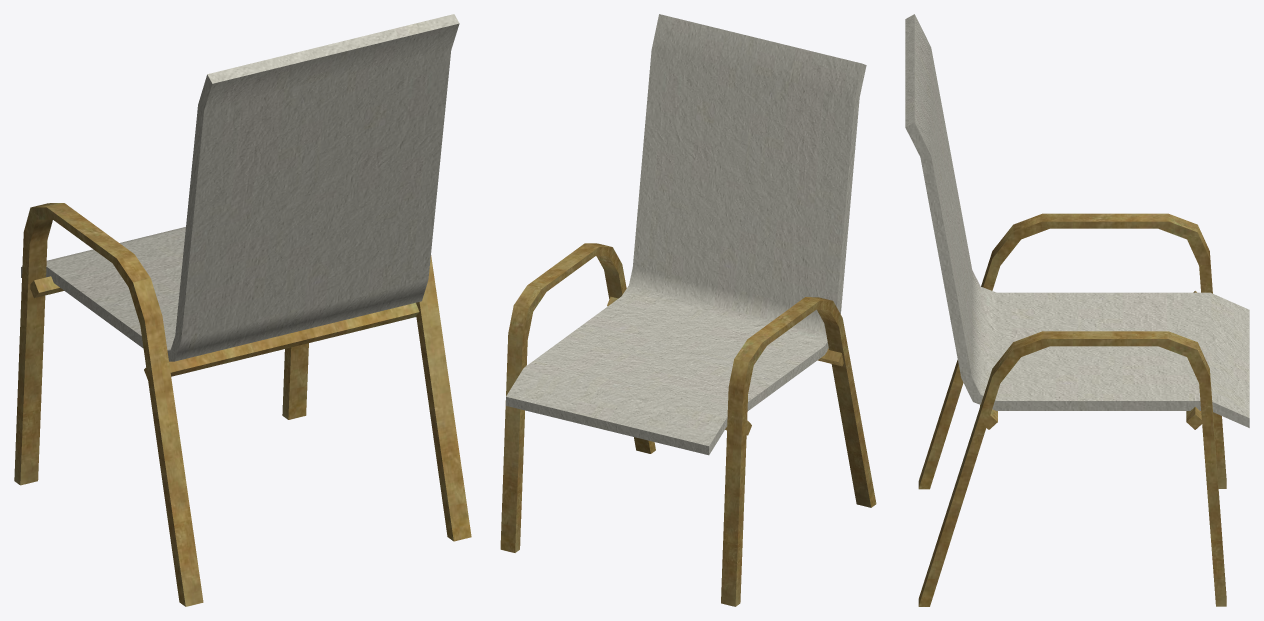
The model's file is FUR0210023.fbx.
The picture shows the model from 3 angles, left to right: view 1: azimuth 30°, elevation 25°; view 2: azimuth 150°, elevation 25°; view 3: azimuth 270°, elevation 25°; orthographic projection. The views are drawn at different scales.
Parts seen in each view (by area): view 1: smFUR0210023; view 2: smFUR0210023; view 3: smFUR0210023.
Boxes of the visible parts, bbox=[...] form: smFUR0210023: bbox=[14, 14, 471, 606]; smFUR0210023: bbox=[500, 14, 876, 606]; smFUR0210023: bbox=[905, 14, 1249, 606].
Bounding box in the file's own units: 76.64 × 136 × 88.92.
1 material, 1 textured.
